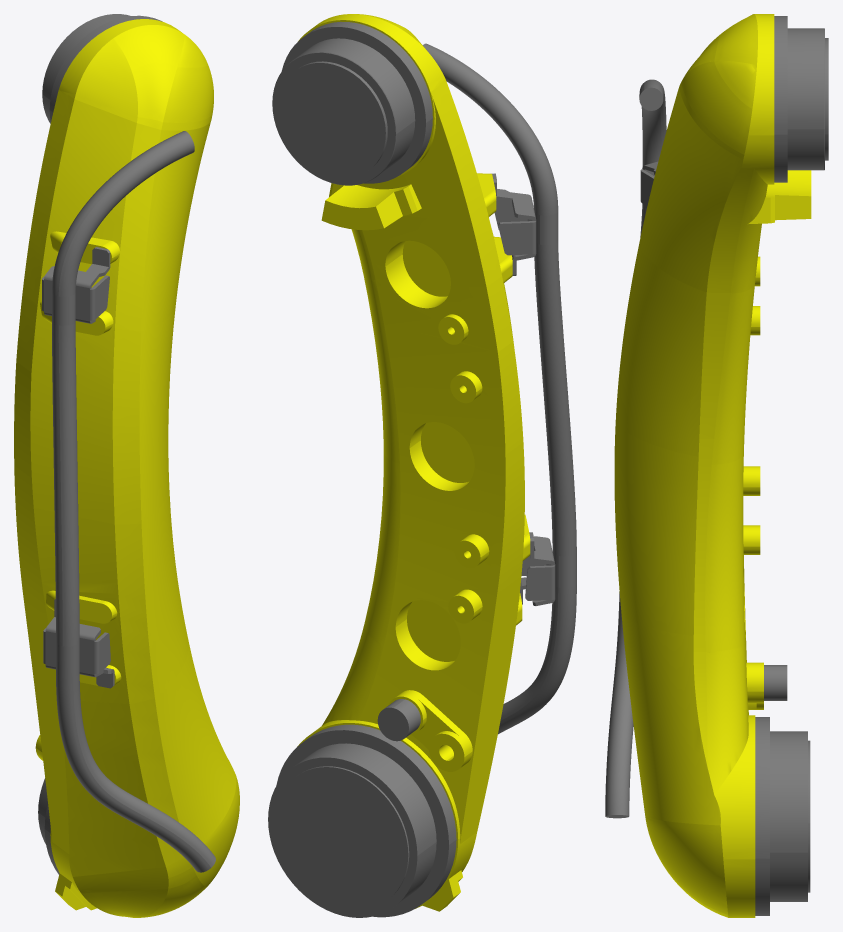
The picture shows the model from 3 angles, left to right: view 1: azimuth 30°, elevation 25°; view 2: azimuth 150°, elevation 25°; view 3: azimuth 270°, elevation 25°; orthographic projection. The views are drawn at different scales.
Visible parts, largest first — view 1: Mesh_0; view 2: Mesh_0; view 3: Mesh_0.
Part boxes in pixels (x1,y1,x2,y2): Mesh_0: (14,14,239,917); Mesh_0: (268,14,576,917); Mesh_0: (605,14,828,917).
Size of the model in its own units: 0.2148 by 0.1808 by 0.791.
